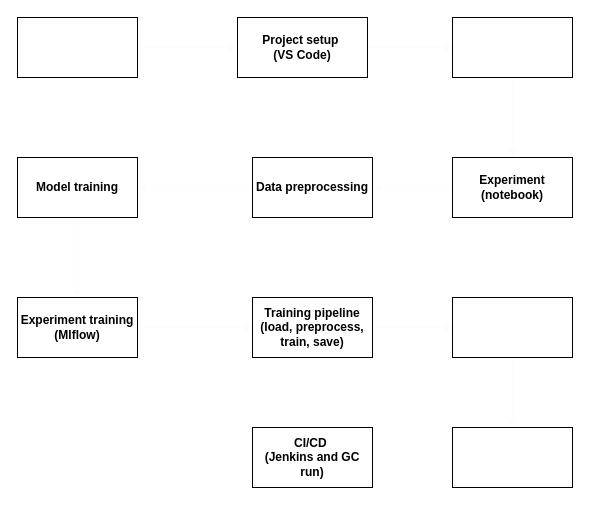
Some shapes in this 590 by 505 pixel diagram are drawn without their labels. The box of each missing label's shape, as (x1, y1, x2, y2) in pixels:
Data & Code version (Github ): (452, 296, 572, 358)
Data Ingestion: (452, 16, 572, 78)
Database setup (GCP bucket): (16, 16, 138, 78)
UI (flask App): (452, 426, 572, 488)
